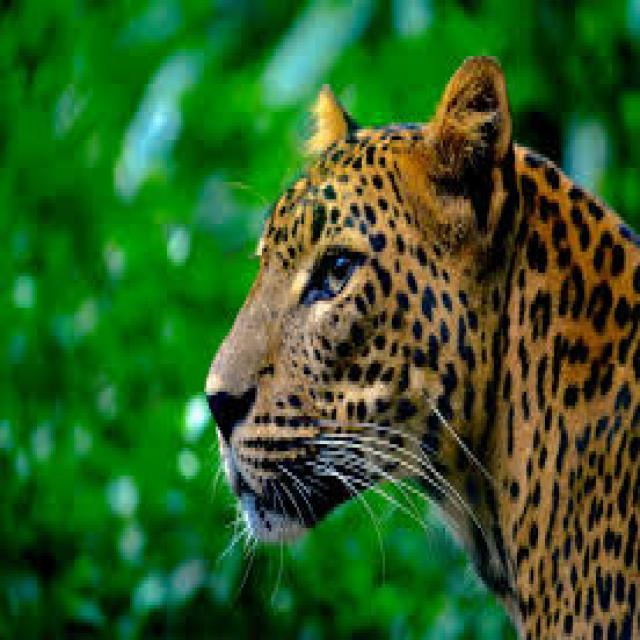Jaguar: (185, 56, 640, 640)
